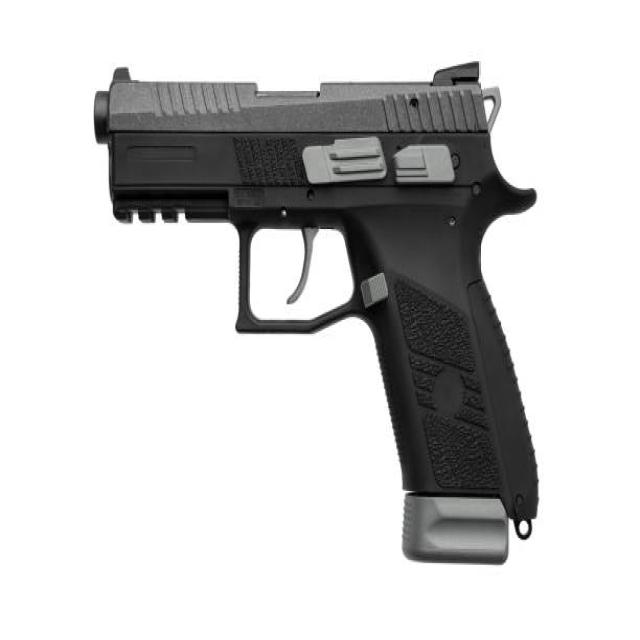pistol: (81, 58, 550, 581)
